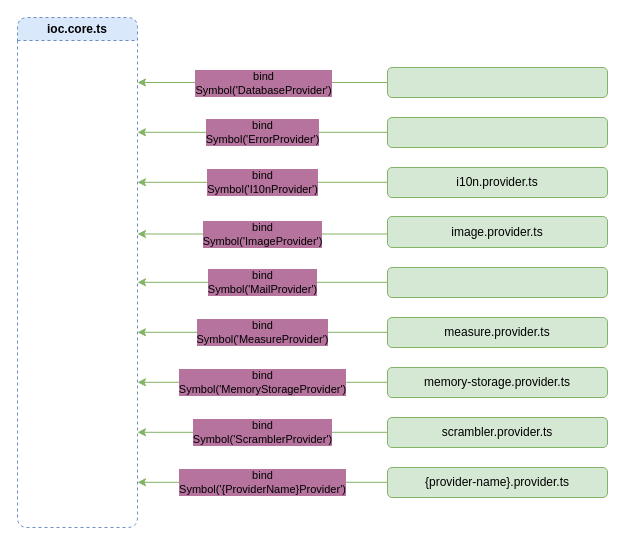
The diagram is 625 pixels wide and 545 high, and some of its shapes have lost their labels. The centre of each missing label's shape, as x and y in pixels:
database.provider.ts: pixel 497 82
error.provider.ts: pixel 497 132
mail.provider.ts: pixel 497 282
